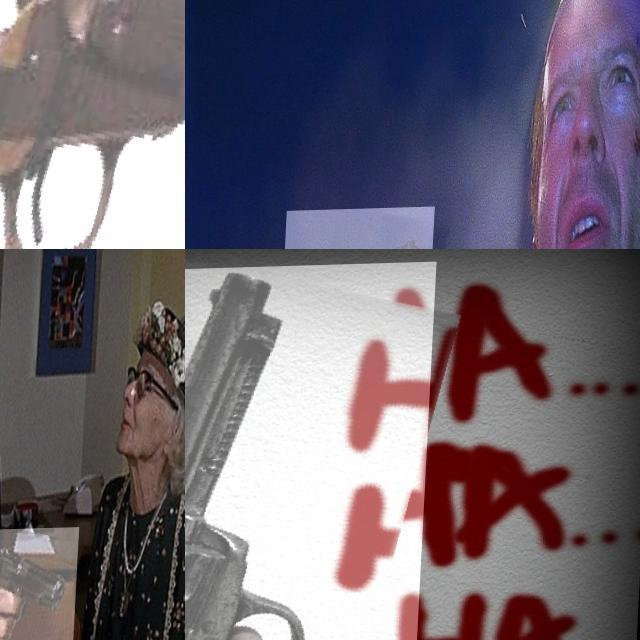gun-knife-thesis - v11 Yolov5 augmented: (185, 264, 436, 640), (0, 0, 185, 249), (0, 528, 84, 640)
